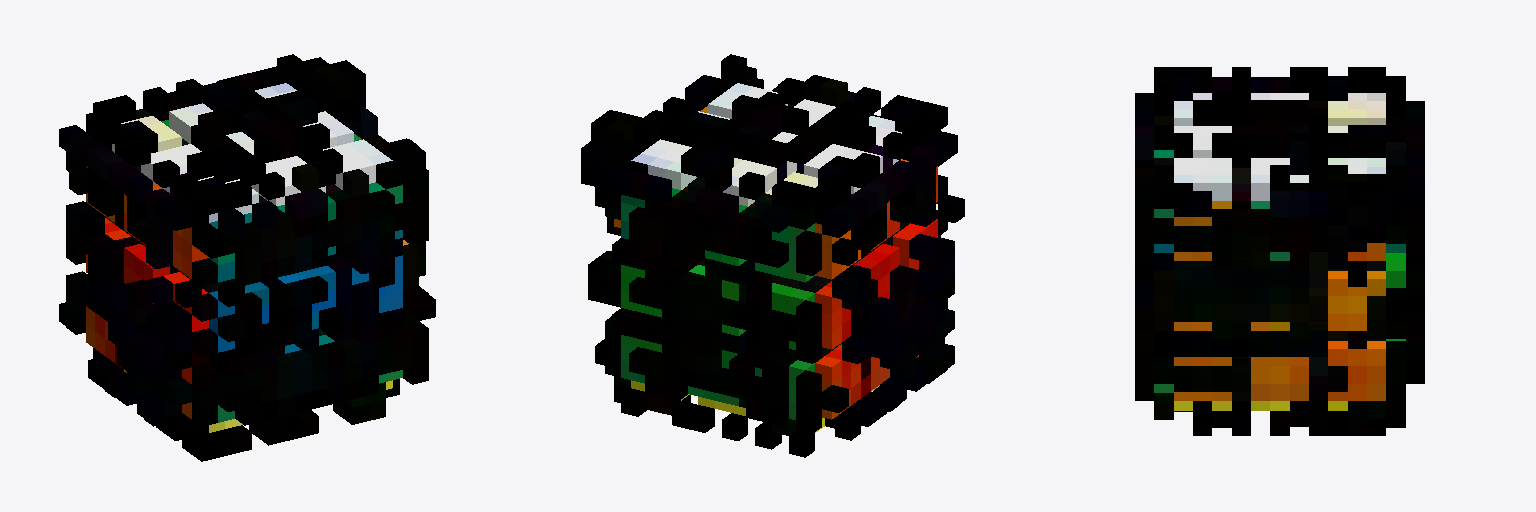
File: iter_100.obj
3 renders of one model, left to right at view 1: azimuth 30°, elevation 25°; view 2: azimuth 150°, elevation 25°; view 3: azimuth 270°, elevation 25°, orthographic.
Visible parts, largest first — view 1: iter_100; view 2: iter_100; view 3: iter_100.
Boxes of the visible parts, x1,y1,x2,y2 form: iter_100: [59, 54, 435, 461]; iter_100: [581, 54, 964, 457]; iter_100: [1135, 67, 1424, 435].
Size of the model in its own units: 1.6 by 1.5 by 1.5.